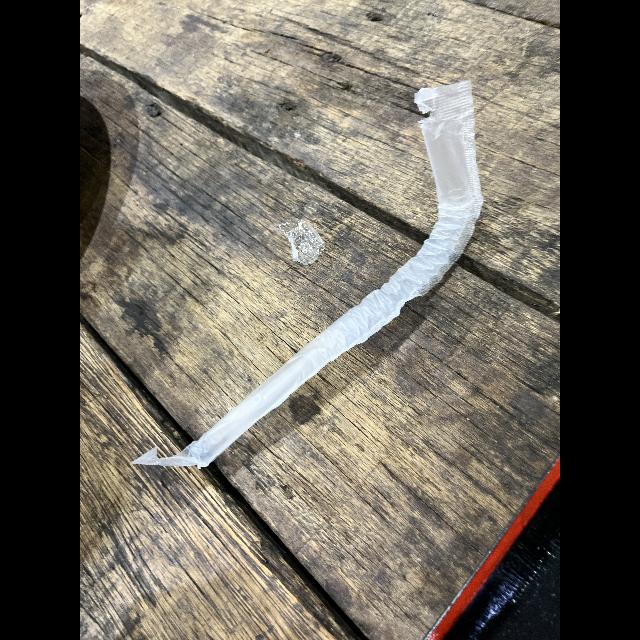scrap_paper: (136, 71, 482, 482)
